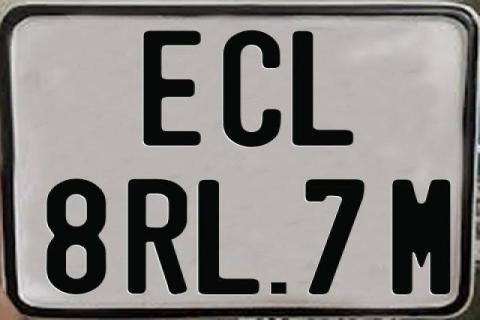0: (46, 178, 111, 296), (303, 179, 364, 297)
C: (220, 29, 282, 149)
E: (141, 29, 200, 150)
L: (197, 180, 264, 298), (289, 31, 353, 147)
M: (392, 177, 452, 296)
R: (126, 180, 185, 296)
